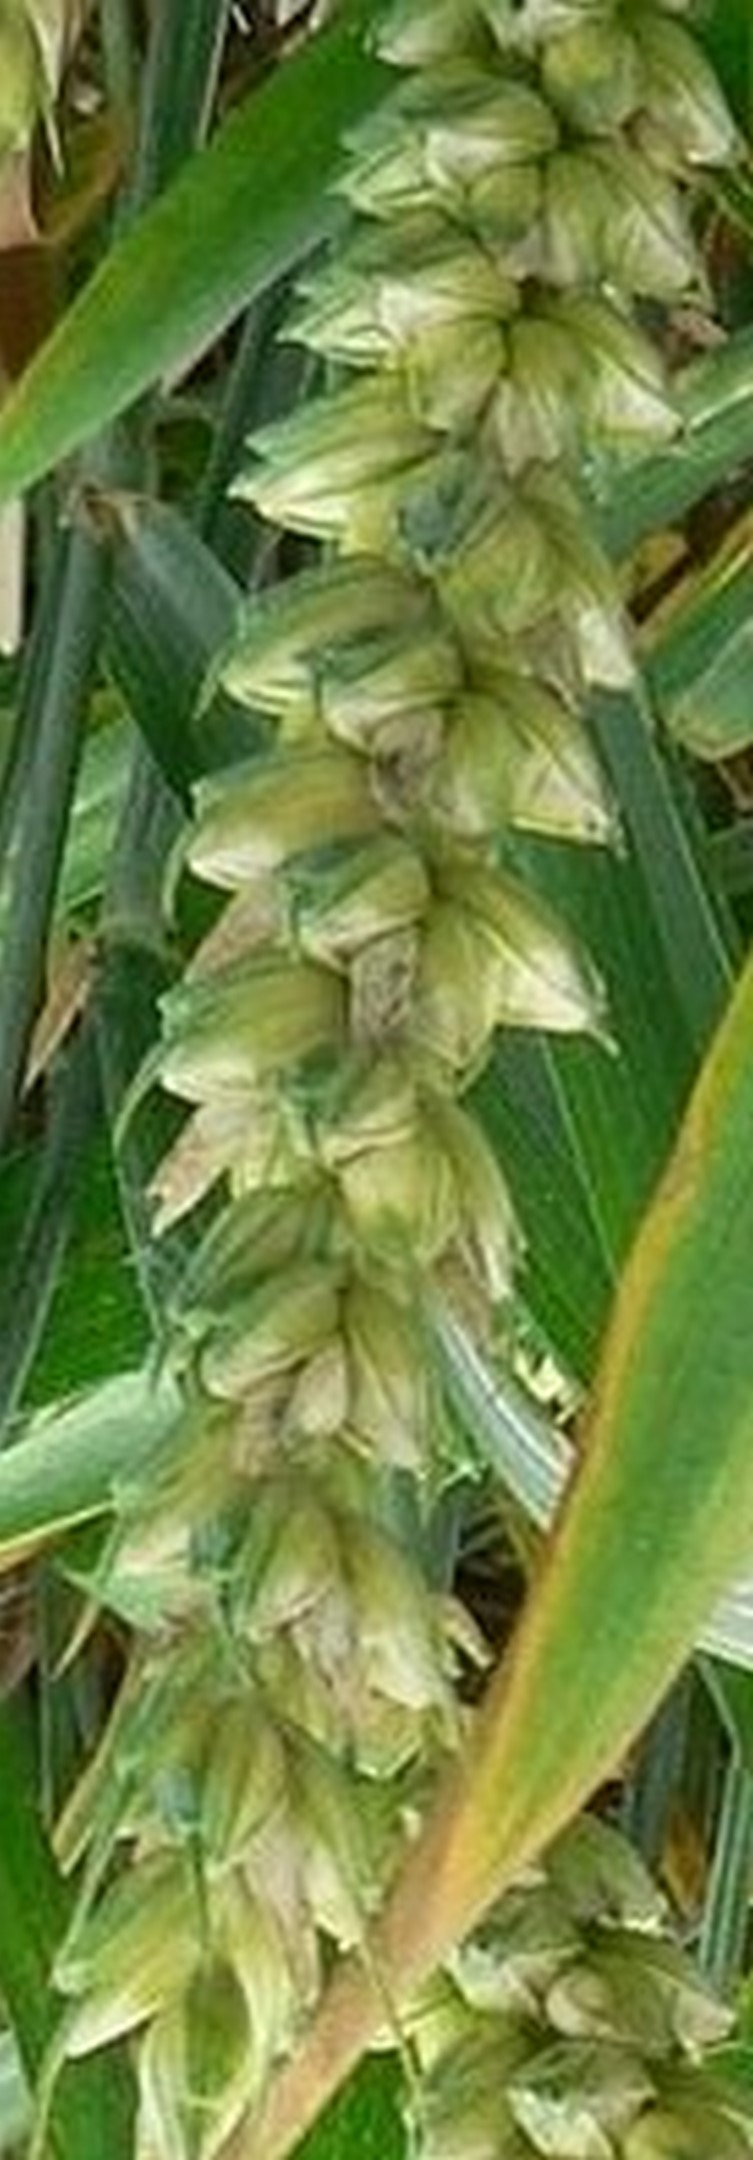Healthy Wheat: (92, 28, 721, 2047)
